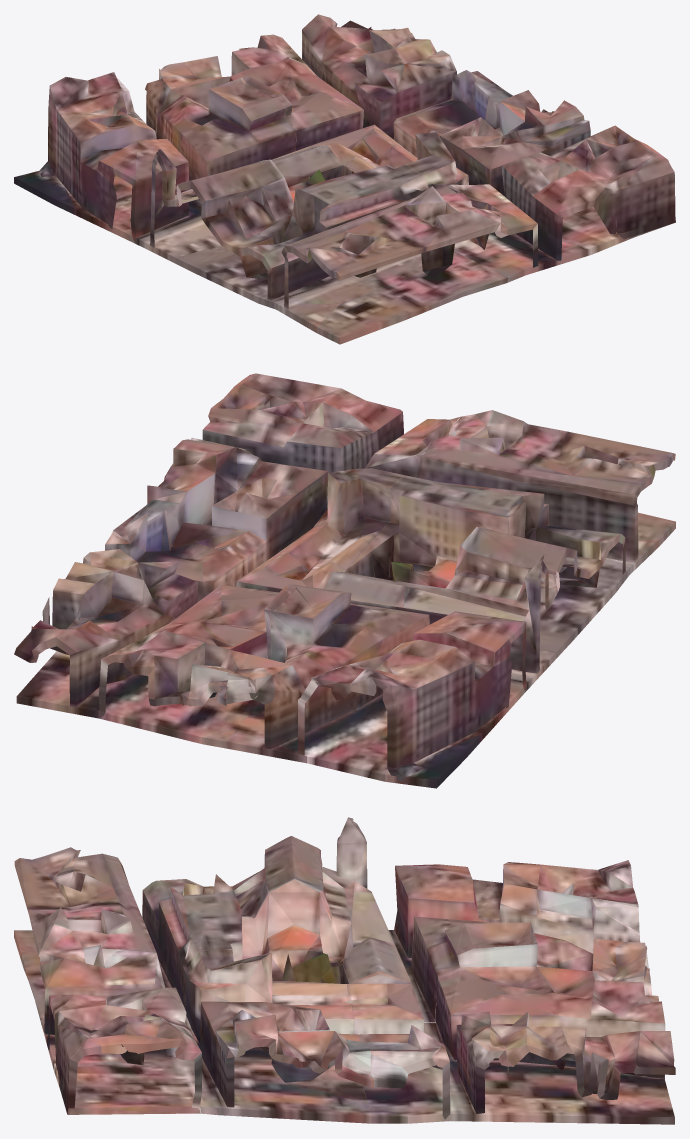
3 renders of one model, top to bottom at view 1: azimuth 30°, elevation 25°; view 2: azimuth 150°, elevation 25°; view 3: azimuth 270°, elevation 25°, orthographic. The views are drawn at different scales.
Visible parts, largest first — view 1: Mesh_0; view 2: Mesh_0; view 3: Mesh_0.
Boxes of the visible parts, x1,y1,x2,y2 form: Mesh_0: (14, 14, 675, 344); Mesh_0: (14, 373, 675, 788); Mesh_0: (14, 817, 675, 1124).
Bounding box in the file's own units: 133 × 37.08 × 165.
Materials: 1 (1 with a texture image).
